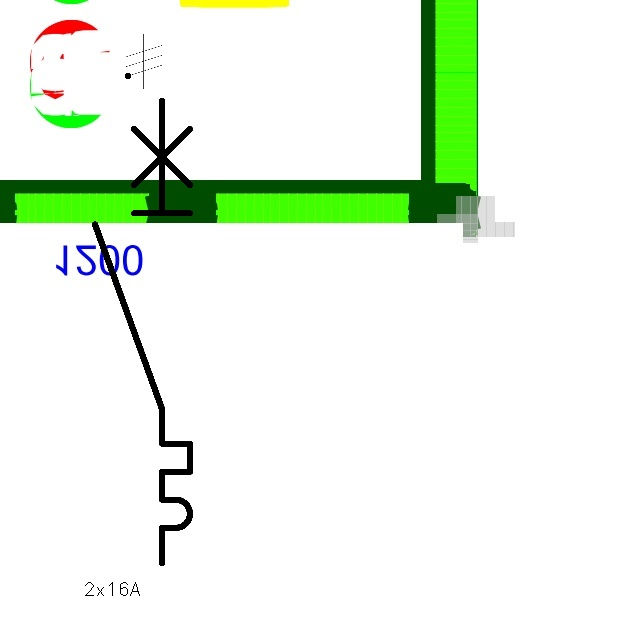interruptor_termomagnetico: (83, 88, 202, 574)
